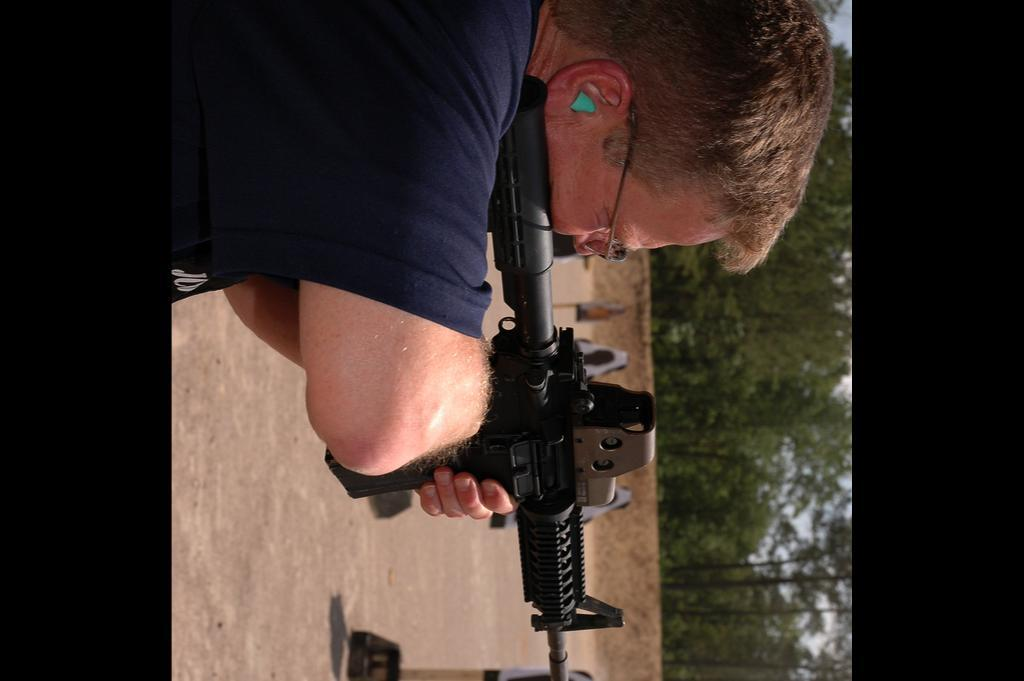gun: (332, 64, 658, 681)
